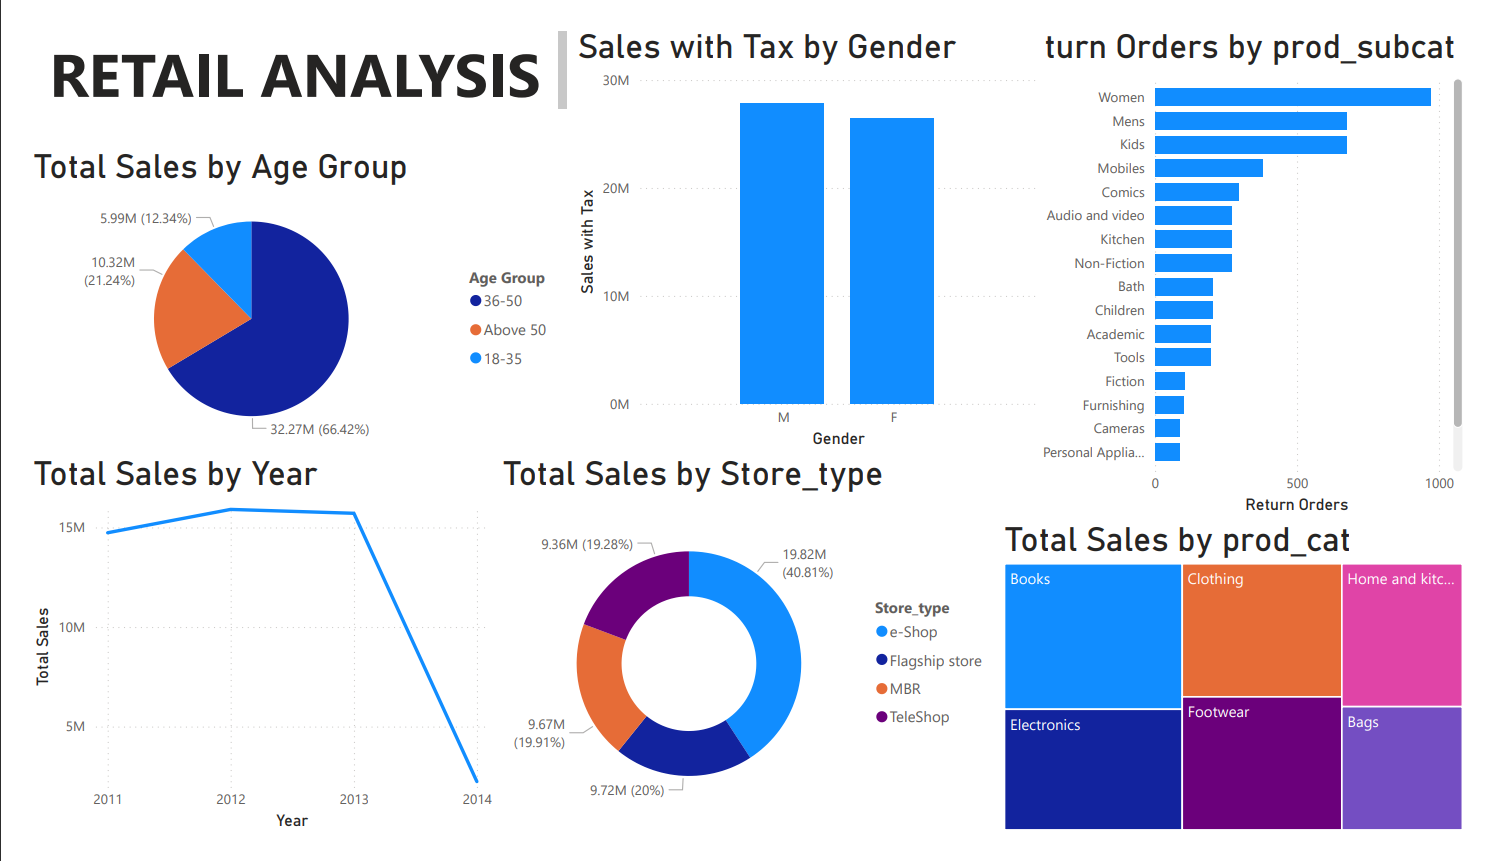

What the dashboard file says about the page in this screenshot:
{"tool":"powerbi","page":{"name":"Page 1","canvas":[1280,720],"ordinal":0},"visuals":[{"type":"lineChart","fields":{"Y":["Transactions.Total Sales"],"Category":["Transactions.tran_date.Variation.Date Hierarchy.Year"]},"box":[0,380.1,417.2,340.3],"z":0},{"type":"donutChart","fields":{"Y":["Transactions.Total Sales"],"Category":["Transactions.Store_type"]},"box":[417.2,380.1,446,340.3],"z":1},{"type":"treemap","fields":{"Values":["Transactions.Total Sales"],"Group":["prod_cat_info.prod_cat"]},"box":[863.1,439.1,417.2,281.3],"z":2},{"type":"clusteredBarChart","fields":{"Y":["Transactions.Return Orders"],"Category":["prod_cat_info.prod_subcat"]},"box":[863.1,0,417.2,439.1],"z":3},{"type":"pieChart","fields":{"Category":["Customers.Age Group"],"Y":["Transactions.Total Sales"]},"box":[0,107,484.4,273.1],"z":4},{"type":"columnChart","fields":{"Y":["Transactions.Sales with Tax"],"Category":["Customers.Gender"]},"box":[484.4,0,417.2,380.1],"z":5},{"type":"textbox","box":[13.7,0,470.7,79.6],"z":6}]}

Visuals, with their boxes in screenshot pixels (x1, y1, x2, y2), scaled from the page's 1280x720 canvas onto the 1492x861 screenshot:
lineChart - Transactions.Total Sales x Transactions.tran_date.Variation.Date Hierarchy.Year: [x1=0, y1=455, x2=486, y2=860]
donutChart - Transactions.Total Sales x Transactions.Store_type: [x1=486, y1=455, x2=1006, y2=860]
treemap - Transactions.Total Sales x prod_cat_info.prod_cat: [x1=1006, y1=525, x2=1491, y2=860]
clusteredBarChart - Transactions.Return Orders x prod_cat_info.prod_subcat: [x1=1006, y1=0, x2=1491, y2=525]
pieChart - Customers.Age Group x Transactions.Total Sales: [x1=0, y1=128, x2=565, y2=455]
columnChart - Transactions.Sales with Tax x Customers.Gender: [x1=565, y1=0, x2=1051, y2=455]
textbox: [x1=16, y1=0, x2=565, y2=95]
